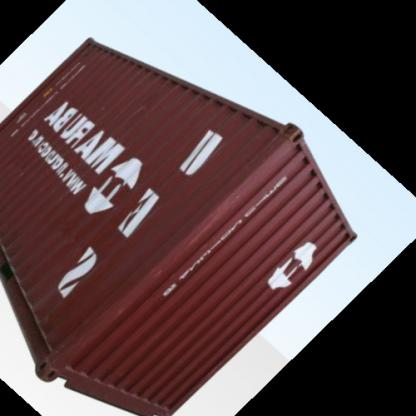Damage: (47, 203, 88, 260), (42, 310, 66, 363), (121, 88, 157, 123)
